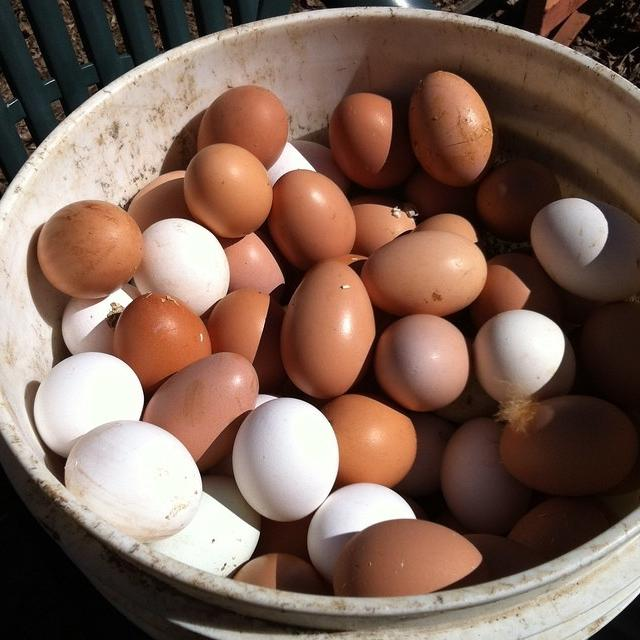egg: (62, 419, 202, 541), (232, 396, 338, 522), (280, 260, 374, 398), (32, 351, 144, 457), (332, 518, 482, 597), (529, 197, 640, 302), (306, 482, 416, 582), (403, 68, 493, 190), (361, 230, 486, 316), (36, 201, 142, 298), (132, 217, 230, 317), (182, 142, 272, 238), (195, 84, 288, 168)
